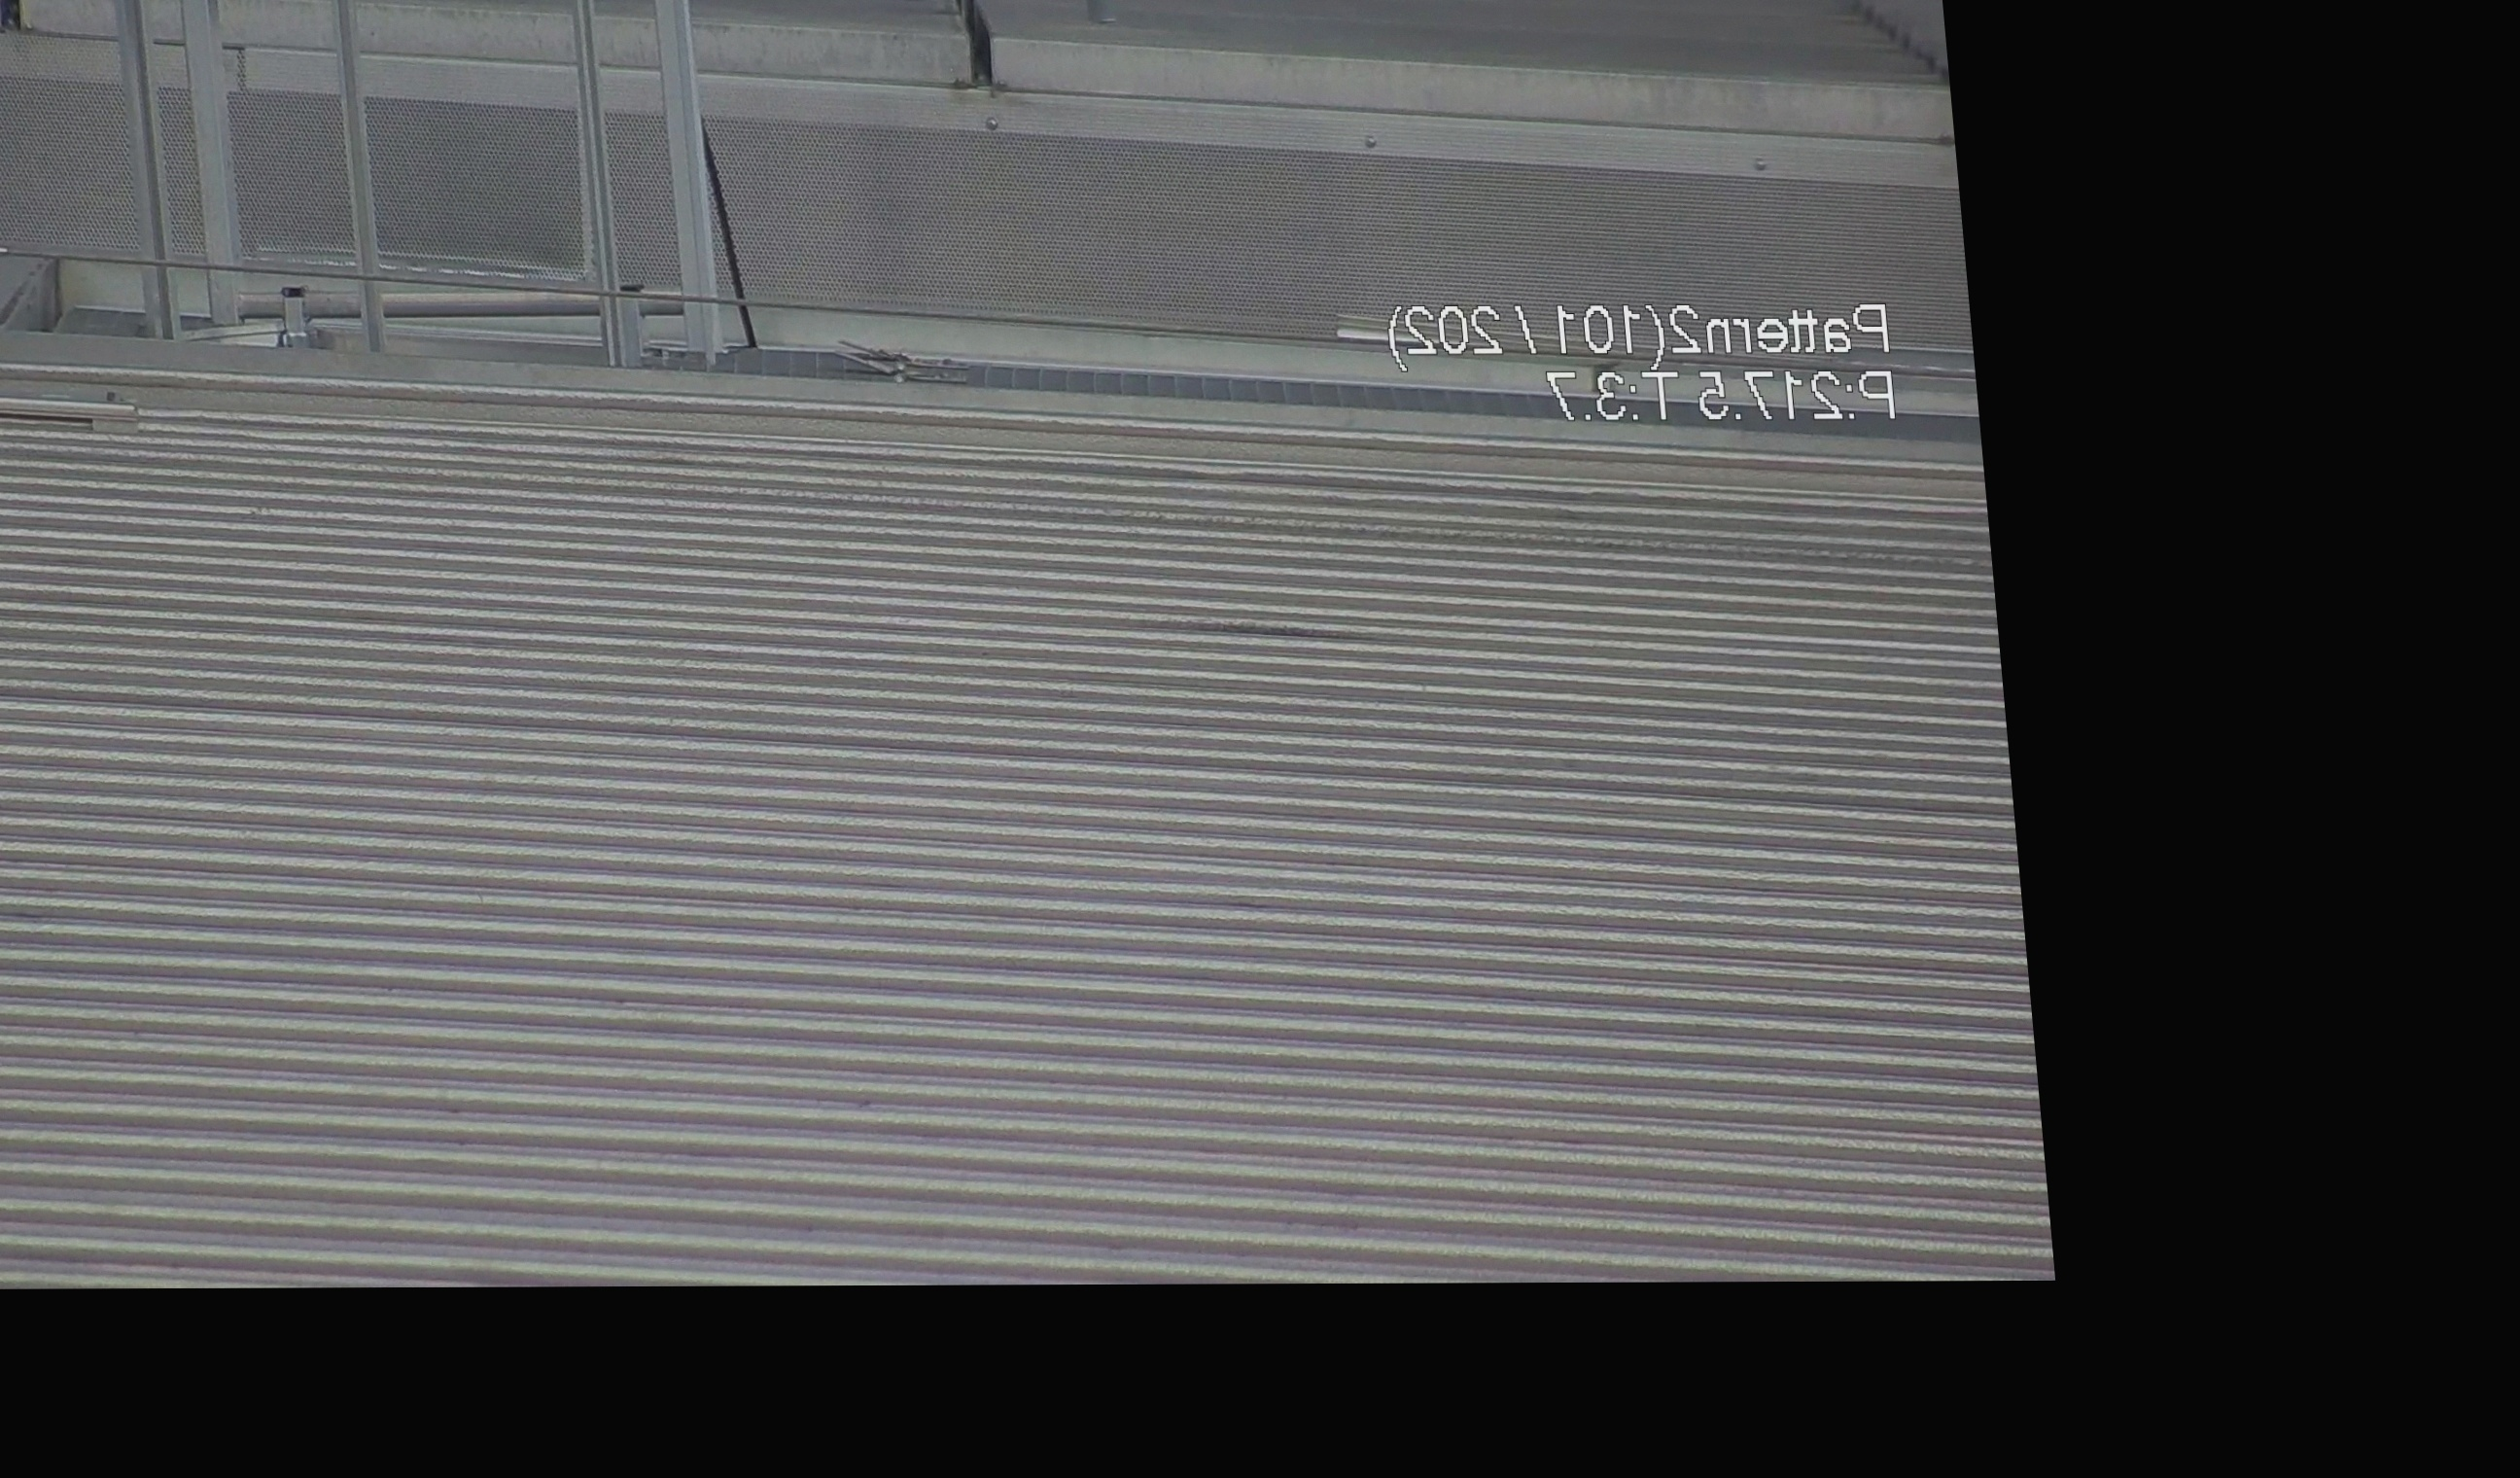Other: (0, 0, 49, 35)
